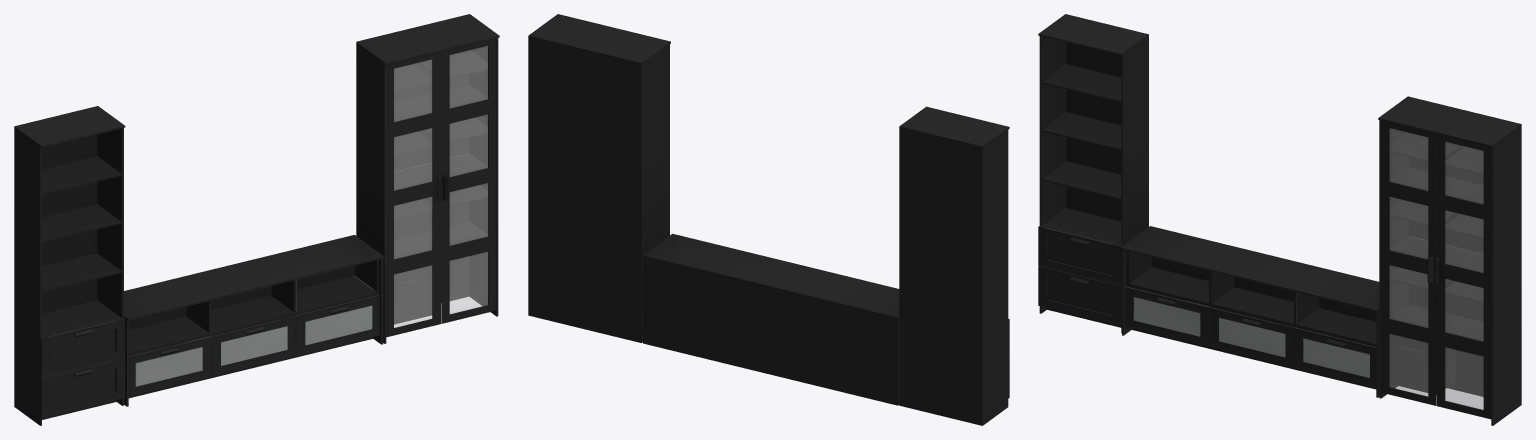
Rendered from Tv Shelf_004_Black.gltf.
3 renders of one model, left to right at view 1: azimuth 30°, elevation 25°; view 2: azimuth 150°, elevation 25°; view 3: azimuth 330°, elevation 25°, orthographic.
Visible parts, largest first — view 1: Tv Shelf_004; view 2: Tv Shelf_004; view 3: Tv Shelf_004.
Boxes of the visible parts, box(x1,y1,x2,y2) form: Tv Shelf_004: box(14, 14, 499, 425); Tv Shelf_004: box(528, 14, 1009, 425); Tv Shelf_004: box(1038, 14, 1521, 425).
Size of the model in its own units: 3.24 by 1.91 by 0.3898.
1 material, 1 textured.
